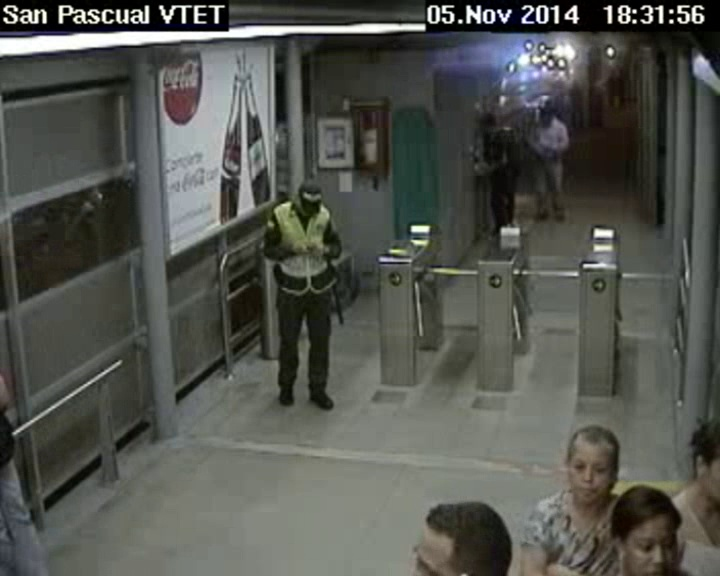person: (604, 471, 687, 576), (414, 497, 511, 576), (566, 418, 614, 503), (685, 412, 720, 503), (291, 177, 328, 219), (478, 109, 502, 136), (536, 104, 554, 125)
